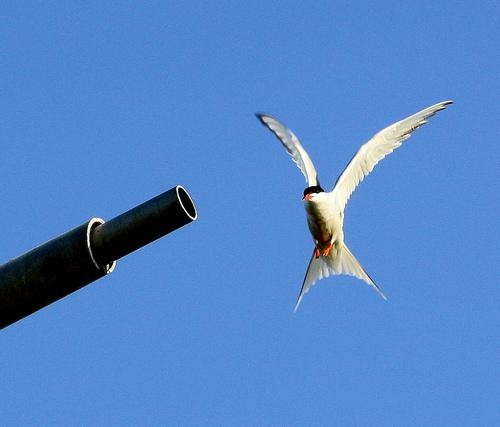bird: (253, 100, 456, 313)
